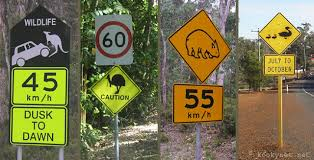Speed_limit_60km: (94, 21, 134, 58)
